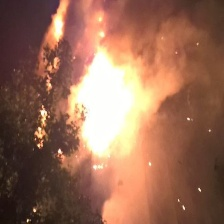fire: (72, 48, 148, 160), (49, 9, 67, 40)
smoke: (131, 1, 223, 101)
